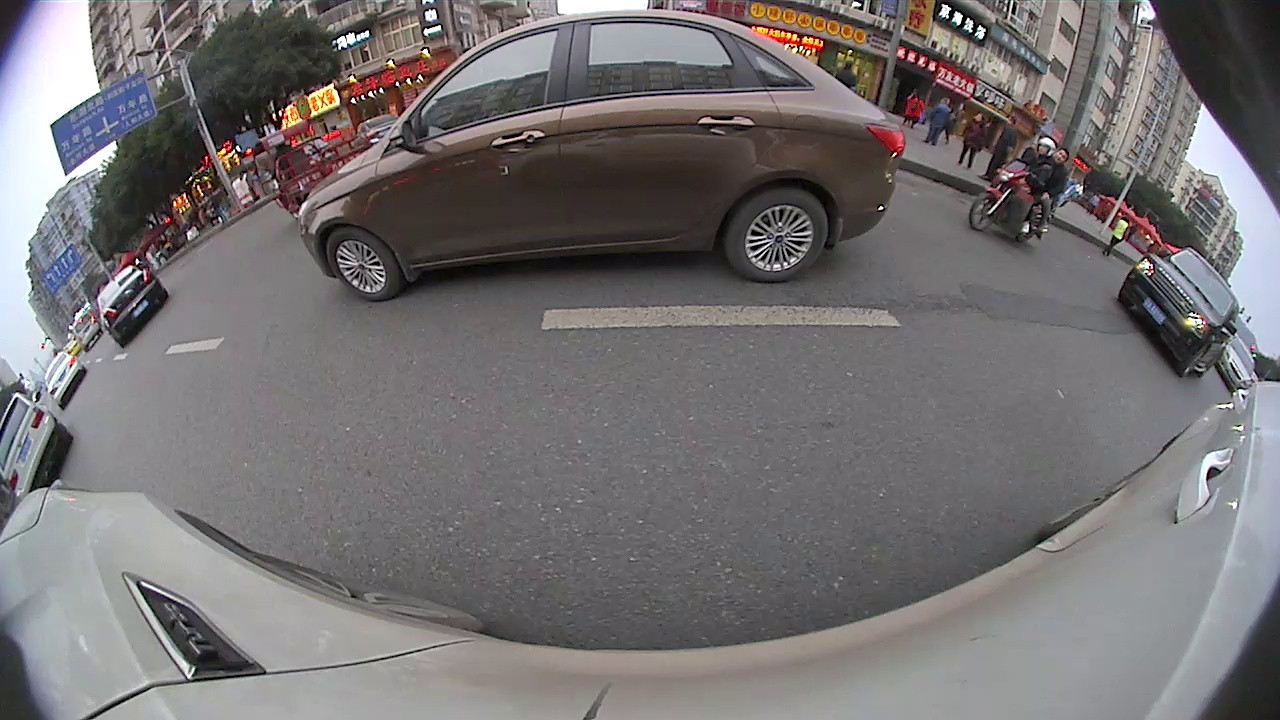car: (289, 6, 909, 308), (1118, 244, 1240, 384), (0, 386, 75, 501), (90, 260, 170, 348), (38, 348, 88, 407)
front: (320, 223, 408, 305)
rear: (719, 183, 831, 287)
rider: (966, 133, 1082, 249), (247, 120, 373, 219)
